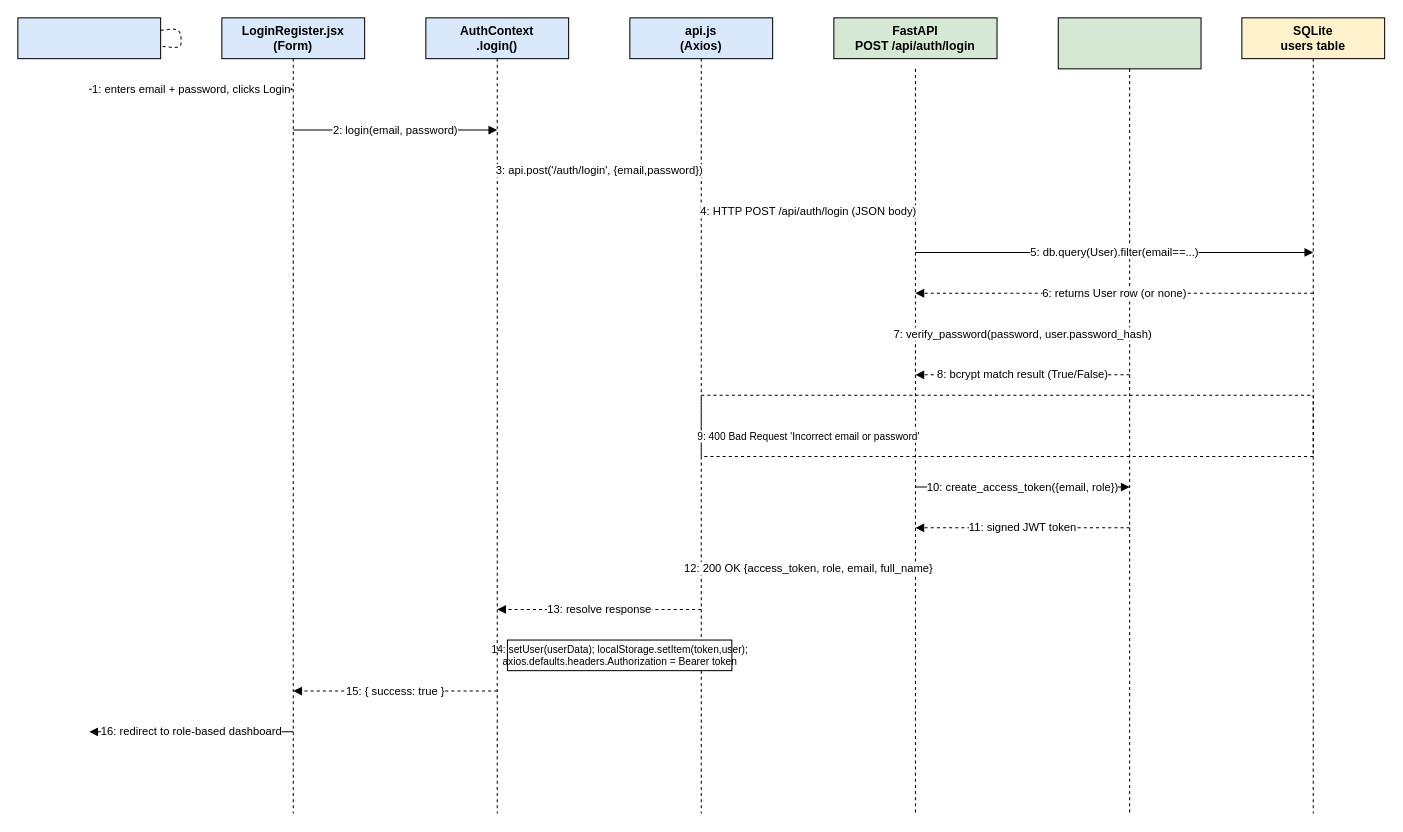
The diagram is 1403 pixels wide and 832 high, and some of its shapes have lost their labels. Here are the shapes that lost their labels. From the top down, the box of each, then its label:
(17, 17, 161, 59): User (Browser)
(1057, 17, 1201, 69): security.py (verify_password / create_access_token)
(700, 394, 1313, 456): alt [invalid credentials]
